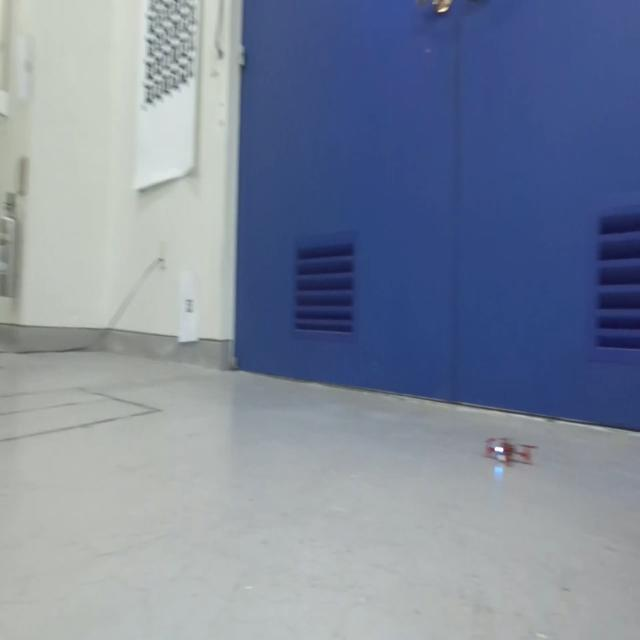crazyflie: (482, 427, 536, 469)
